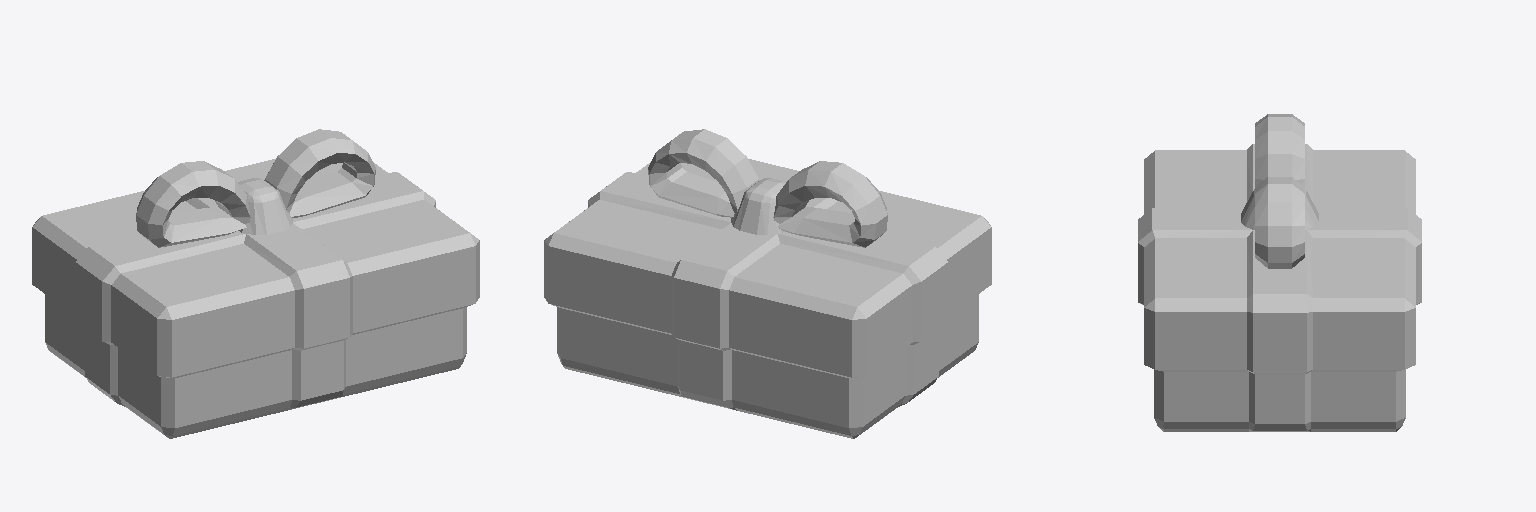
Rendered from present_C_blue.obj.
3 renders of one model, left to right at view 1: azimuth 30°, elevation 25°; view 2: azimuth 150°, elevation 25°; view 3: azimuth 270°, elevation 25°, orthographic.
Parts seen in each view (by area): view 1: present_C_blue; view 2: present_C_blue; view 3: present_C_blue.
Boxes of the visible parts, <box> form: present_C_blue: <box>32,129,479,438</box>; present_C_blue: <box>544,129,991,438</box>; present_C_blue: <box>1138,114,1421,431</box>.
Size of the model in its own units: 0.7638 by 0.4617 by 0.5638.